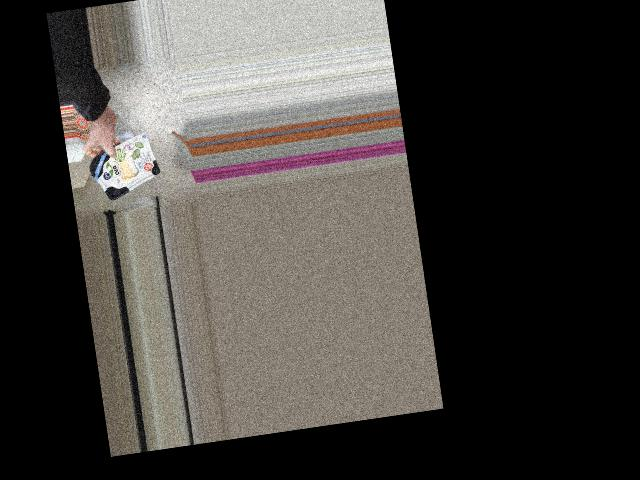cheese: (84, 141, 162, 198)
